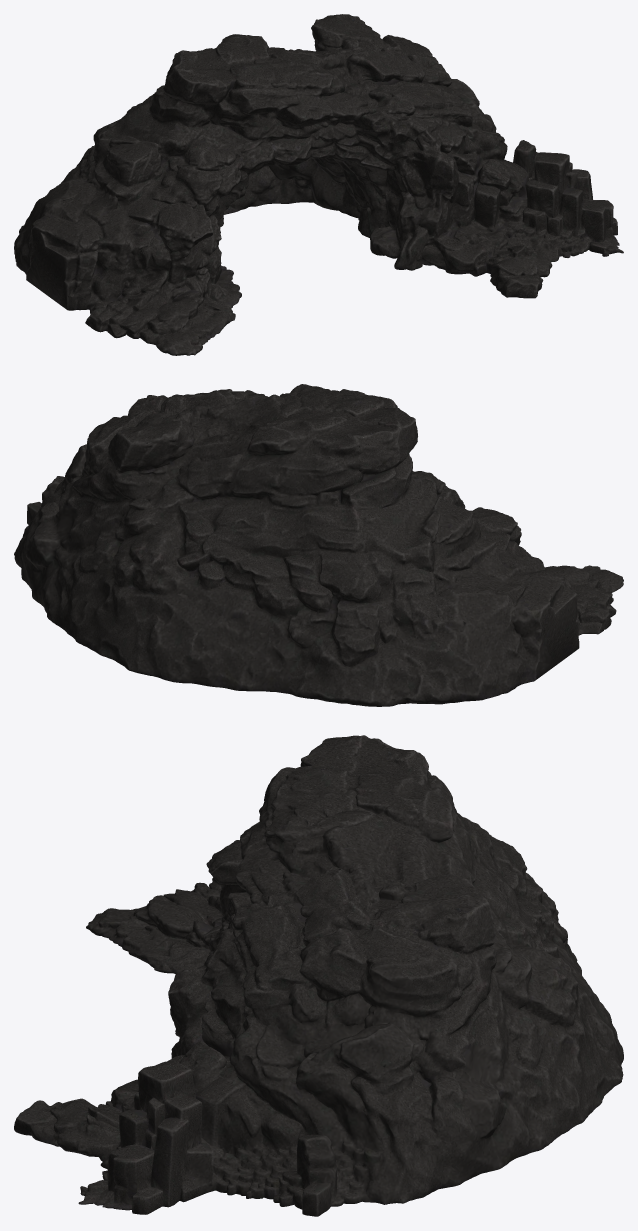
File: Basalt_Arch.glb
3 views of the same model, one above another, from view 1: azimuth 30°, elevation 25°; view 2: azimuth 150°, elevation 25°; view 3: azimuth 270°, elevation 25° (orthographic). The views are drawn at different scales.
Visible parts, largest first — view 1: Basalt_Arch; view 2: Basalt_Arch; view 3: Basalt_Arch.
Boxes of the visible parts, bbox=[...] form: Basalt_Arch: bbox=[14, 14, 623, 355]; Basalt_Arch: bbox=[14, 384, 623, 706]; Basalt_Arch: bbox=[14, 735, 623, 1216].
Bounding box in the file's own units: 1.89 × 0.6883 × 1.51.
Materials: 1 (1 with a texture image).
